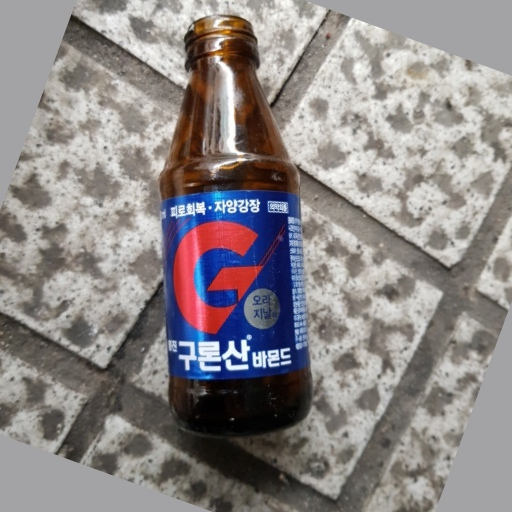Glass_3: (160, 13, 315, 434)
